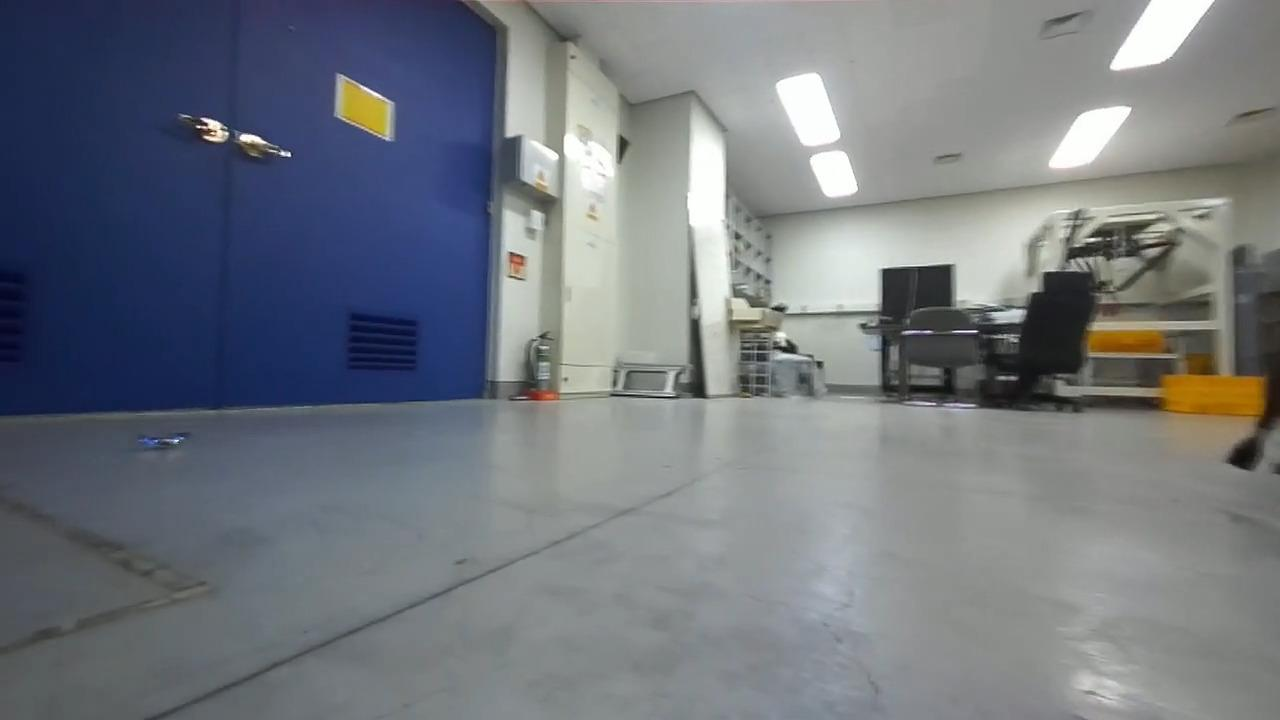crazyflie: (138, 421, 195, 458)
